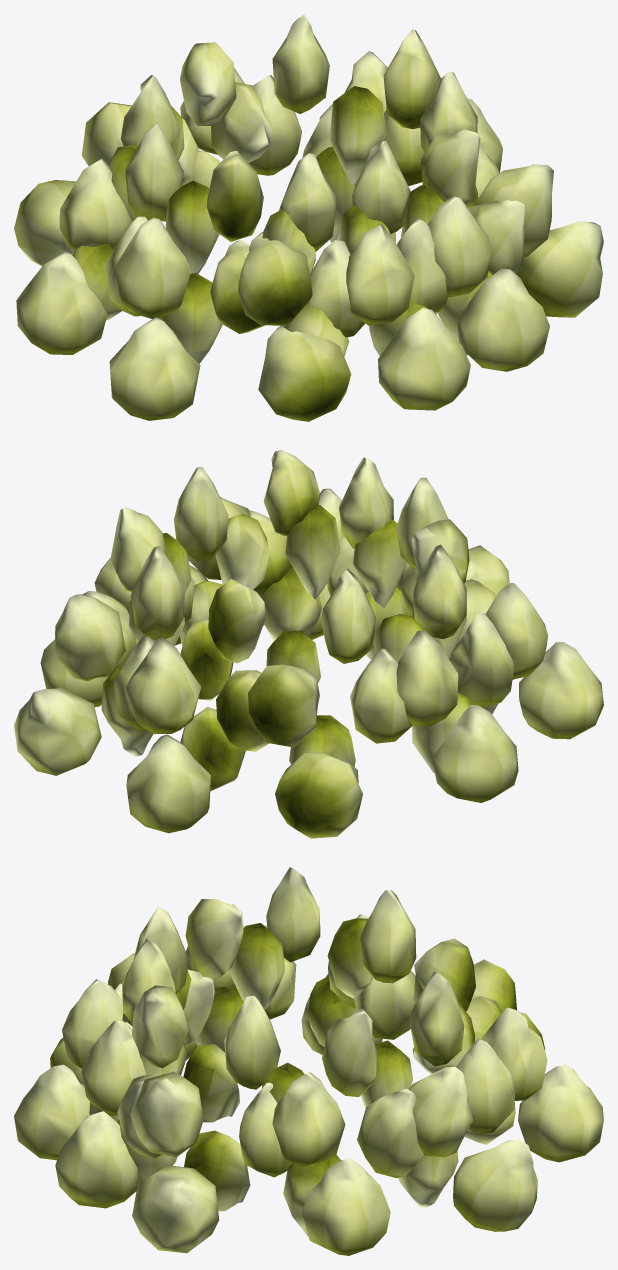
The model's file is figs.glb.
3 views of the same model, one above another, from view 1: azimuth 30°, elevation 25°; view 2: azimuth 150°, elevation 25°; view 3: azimuth 270°, elevation 25° (orthographic). The views are drawn at different scales.
Visible parts, largest first — view 1: figs; view 2: figs; view 3: figs.
Part boxes in pixels (x1,y1,x2,y2): figs: (14,14,603,421); figs: (14,450,603,838); figs: (14,867,603,1255).
Bounding box in the file's own units: 2.09 × 0.9541 × 2.26.
1 material, 1 textured.
